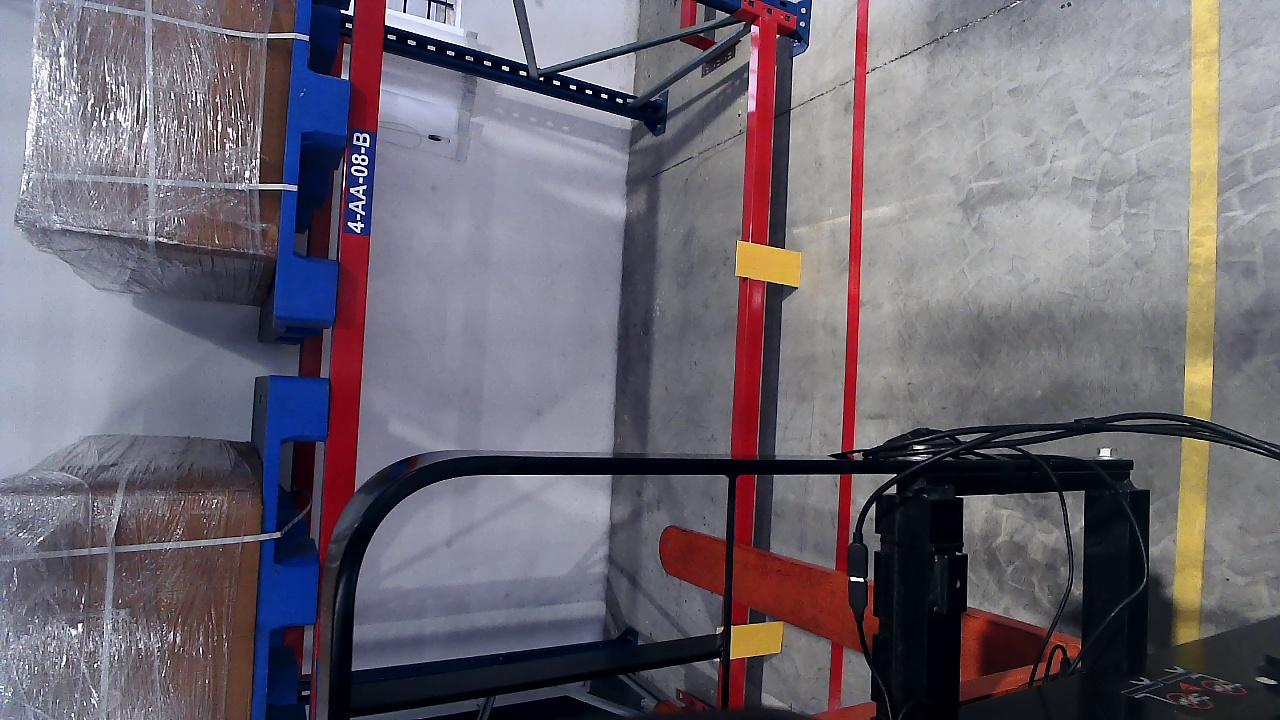h_rack: (315, 0, 386, 720), (727, 20, 777, 713)
orange_strip: (735, 241, 801, 287), (730, 621, 785, 659)
red_line: (822, 0, 870, 708)
small_pallet: (271, 0, 367, 317), (247, 372, 328, 720)
yellow_line: (1170, 2, 1222, 639)
